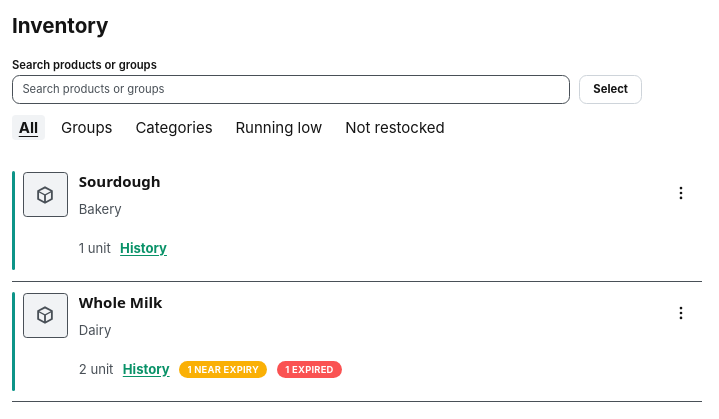
it: InventoryPage › shows attention items first and filters the fetched inventory locally
Expected: the heading "Whole Milk" is shown, [79, 292, 162, 312]
Expected: the text "1 near expiry" is shown, [188, 362, 259, 377]
Step 1. Type "bakery" into the field labelled "Search products or groups" → coordinates (291, 89), box [12, 75, 570, 104]
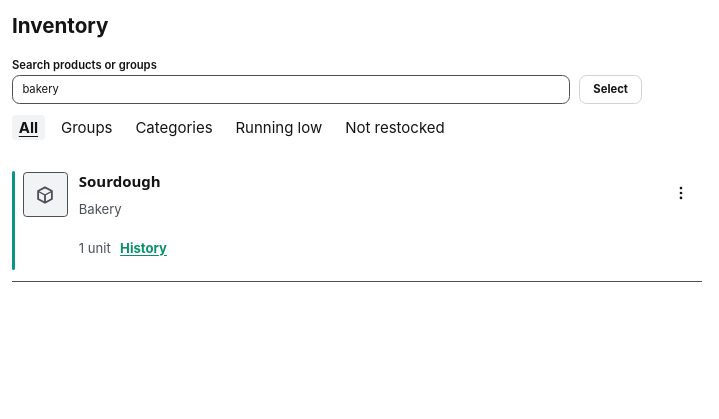
Expected: the heading "Sourdough" is shown, [79, 171, 161, 191]
Now the heading "Whole Milk" is gone
